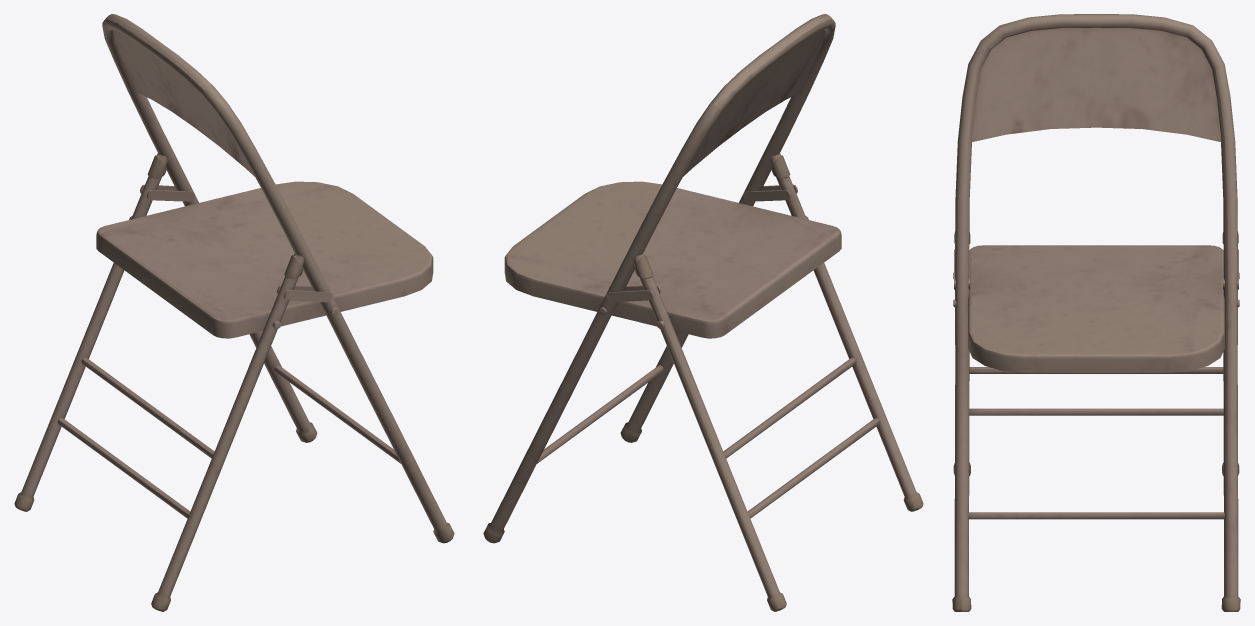
File: chair_folding.glb
3 views of the same model, side by side, from view 1: azimuth 30°, elevation 25°; view 2: azimuth 150°, elevation 25°; view 3: azimuth 270°, elevation 25° (orthographic).
Parts seen in each view (by area): view 1: mesh; view 2: mesh; view 3: mesh.
Part boxes in pixels (x1,y1,x2,y2): mesh: (14,14,454,611); mesh: (483,14,923,611); mesh: (952,14,1240,611).
Size of the model in its own units: 0.5209 by 0.82 by 0.4332.
Materials: 1 (1 with a texture image).
